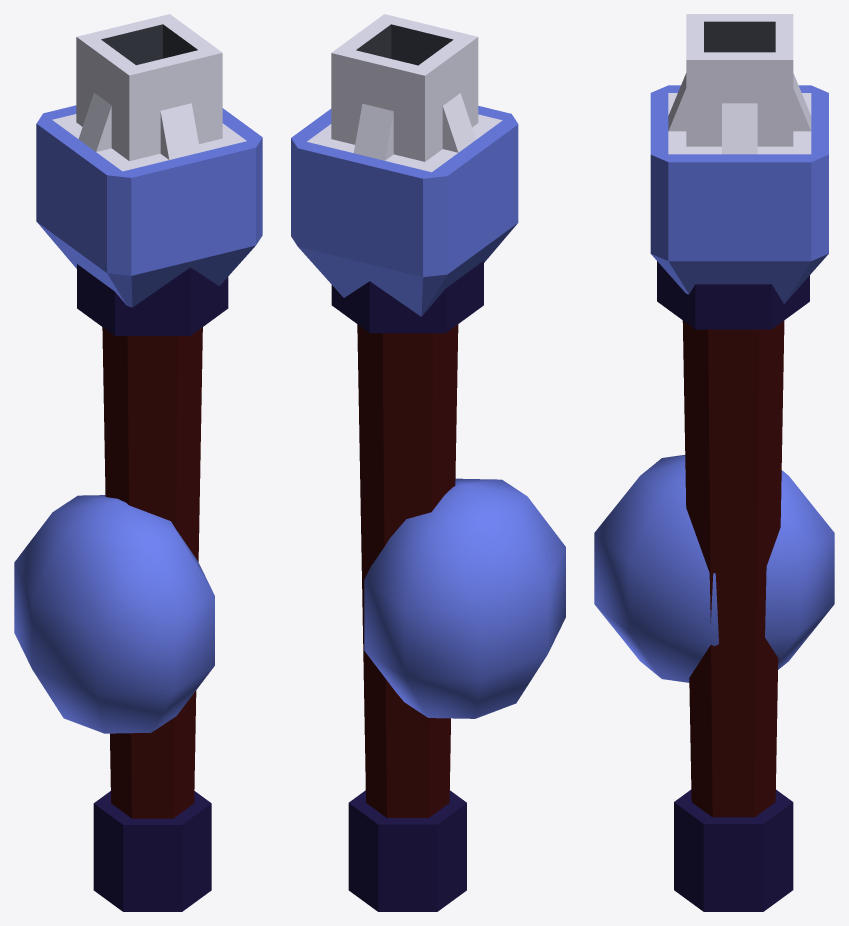
Rendered from Staff.fbx.
3 views of the same model, side by side, from view 1: azimuth 30°, elevation 25°; view 2: azimuth 150°, elevation 25°; view 3: azimuth 270°, elevation 25° (orthographic).
Visible parts, largest first — view 1: mergedBlocks; view 2: mergedBlocks; view 3: mergedBlocks.
Boxes of the visible parts, box(x1,y1,x2,y2) form: mergedBlocks: box(14, 14, 262, 911); mergedBlocks: box(291, 14, 565, 911); mergedBlocks: box(594, 14, 834, 911).
Bounding box in the file's own units: 4.8 × 18.6 × 4.76.
